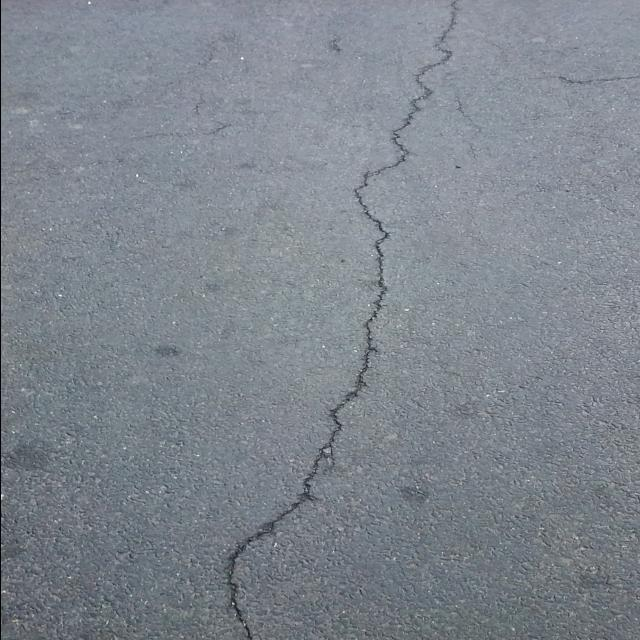Crack: (226, 0, 461, 640), (453, 96, 479, 139), (557, 76, 640, 84), (207, 121, 230, 135), (132, 132, 176, 138), (331, 36, 341, 52), (468, 143, 475, 161), (190, 104, 199, 116)
